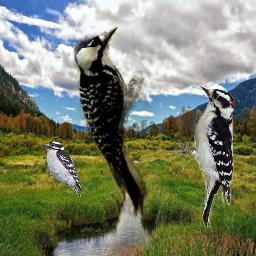Woodpecker: (65, 20, 162, 232), (169, 84, 237, 228), (40, 141, 82, 199)
